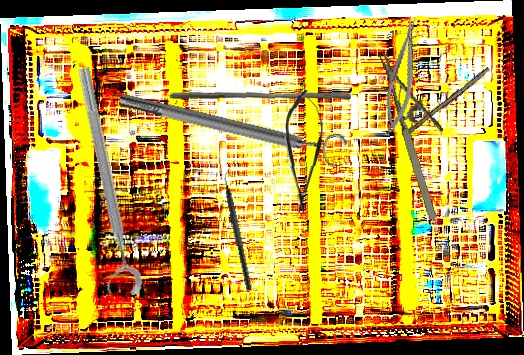Chopper: (218, 165, 261, 291)
Fixation Ring: (115, 79, 349, 172), (59, 65, 145, 301)
Micro Scissor: (281, 89, 326, 214)
Needle Holder: (379, 44, 465, 222), (378, 14, 428, 136)
Pusher: (168, 85, 353, 107)
Scalpel Handle: (401, 65, 492, 141)
